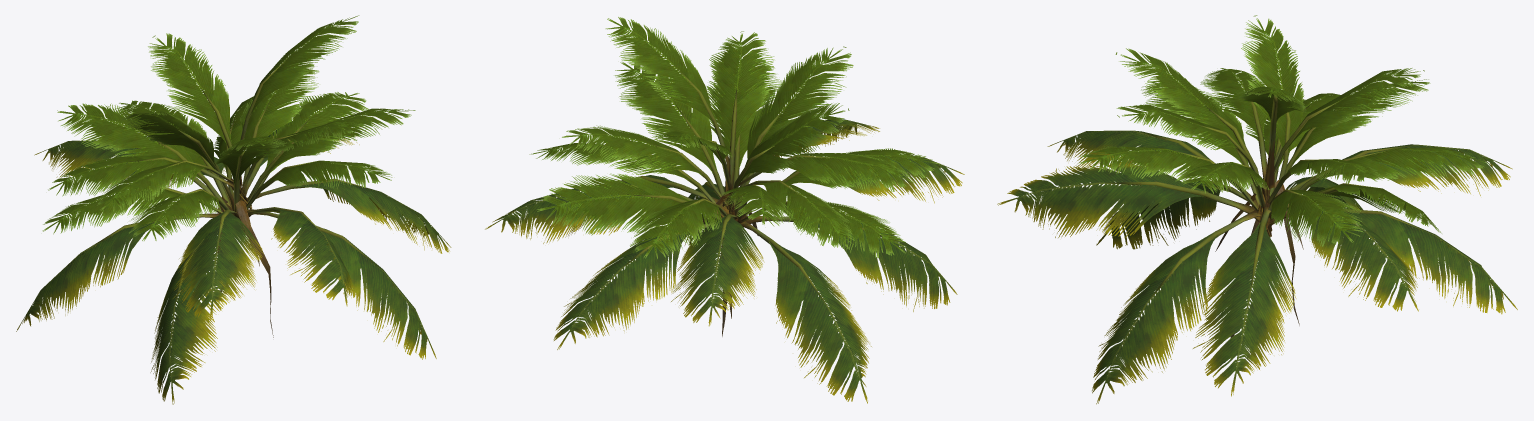
The model's file is palm.obj.
3 views of the same model, side by side, from view 1: azimuth 30°, elevation 25°; view 2: azimuth 150°, elevation 25°; view 3: azimuth 270°, elevation 25° (orthographic). The views are drawn at different scales.
Visible parts, largest first — view 1: tree; view 2: tree; view 3: tree.
Part boxes in pixels (x1,y1,x2,y2): tree: (16,15,451,404); tree: (485,17,964,403); tree: (997,15,1517,404).
Bounding box in the file's own units: 120 × 88.45 × 130.
